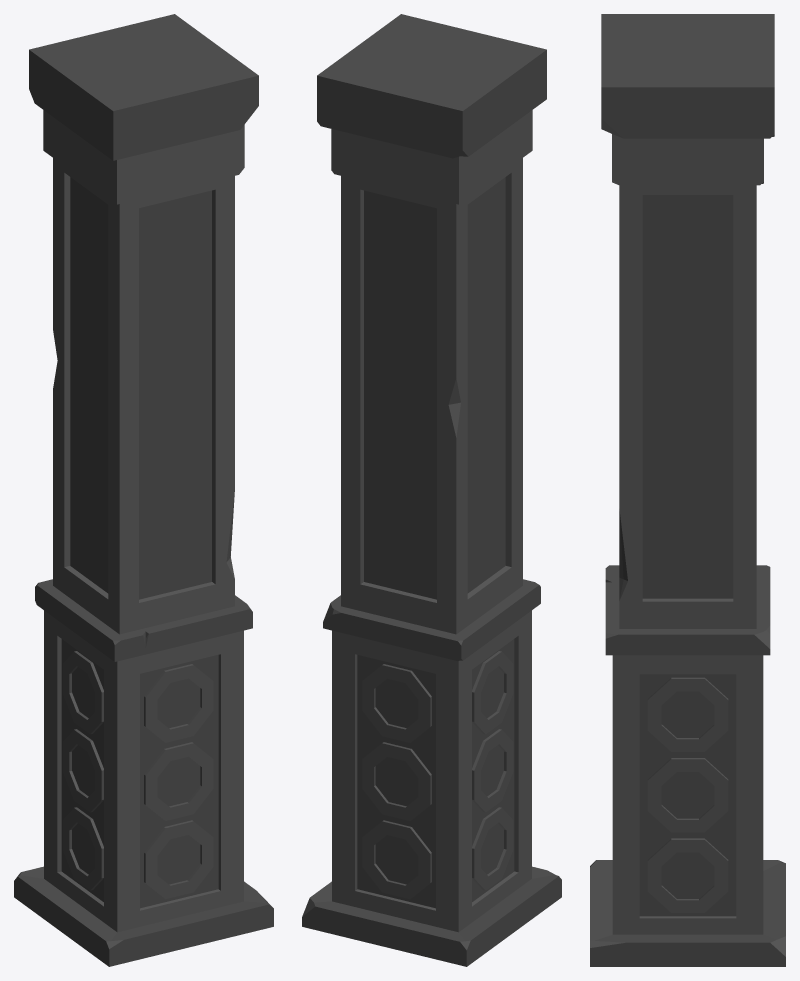
File: Ruins_01.fbx
The picture shows the model from 3 angles, left to right: view 1: azimuth 30°, elevation 25°; view 2: azimuth 150°, elevation 25°; view 3: azimuth 270°, elevation 25°; orthographic projection. The views are drawn at different scales.
Visible parts, largest first — view 1: Ruins_01_LOD0; view 2: Ruins_01_LOD0; view 3: Ruins_01_LOD0.
Part boxes in pixels (x1,y1,x2,y2): Ruins_01_LOD0: (14,14,273,966); Ruins_01_LOD0: (302,14,561,966); Ruins_01_LOD0: (590,14,785,966).
Size of what is drawn, in the model's own units: 104 by 511 by 104.
